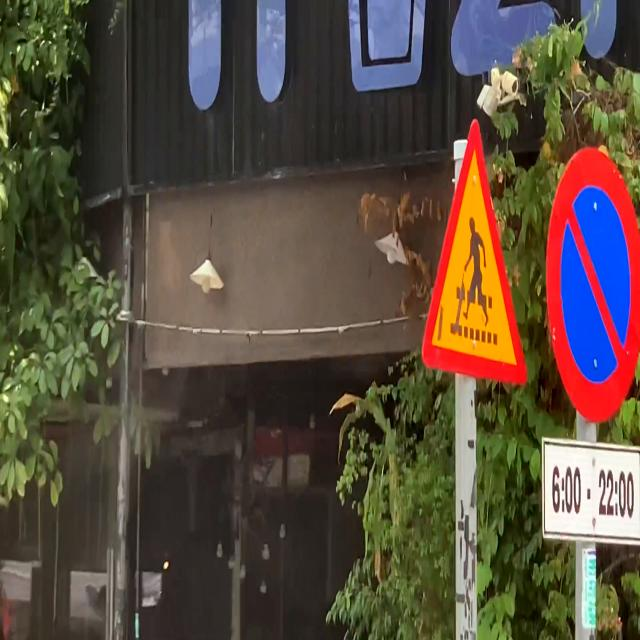P.131a: (545, 144, 640, 427)
W.224: (420, 114, 529, 388)
